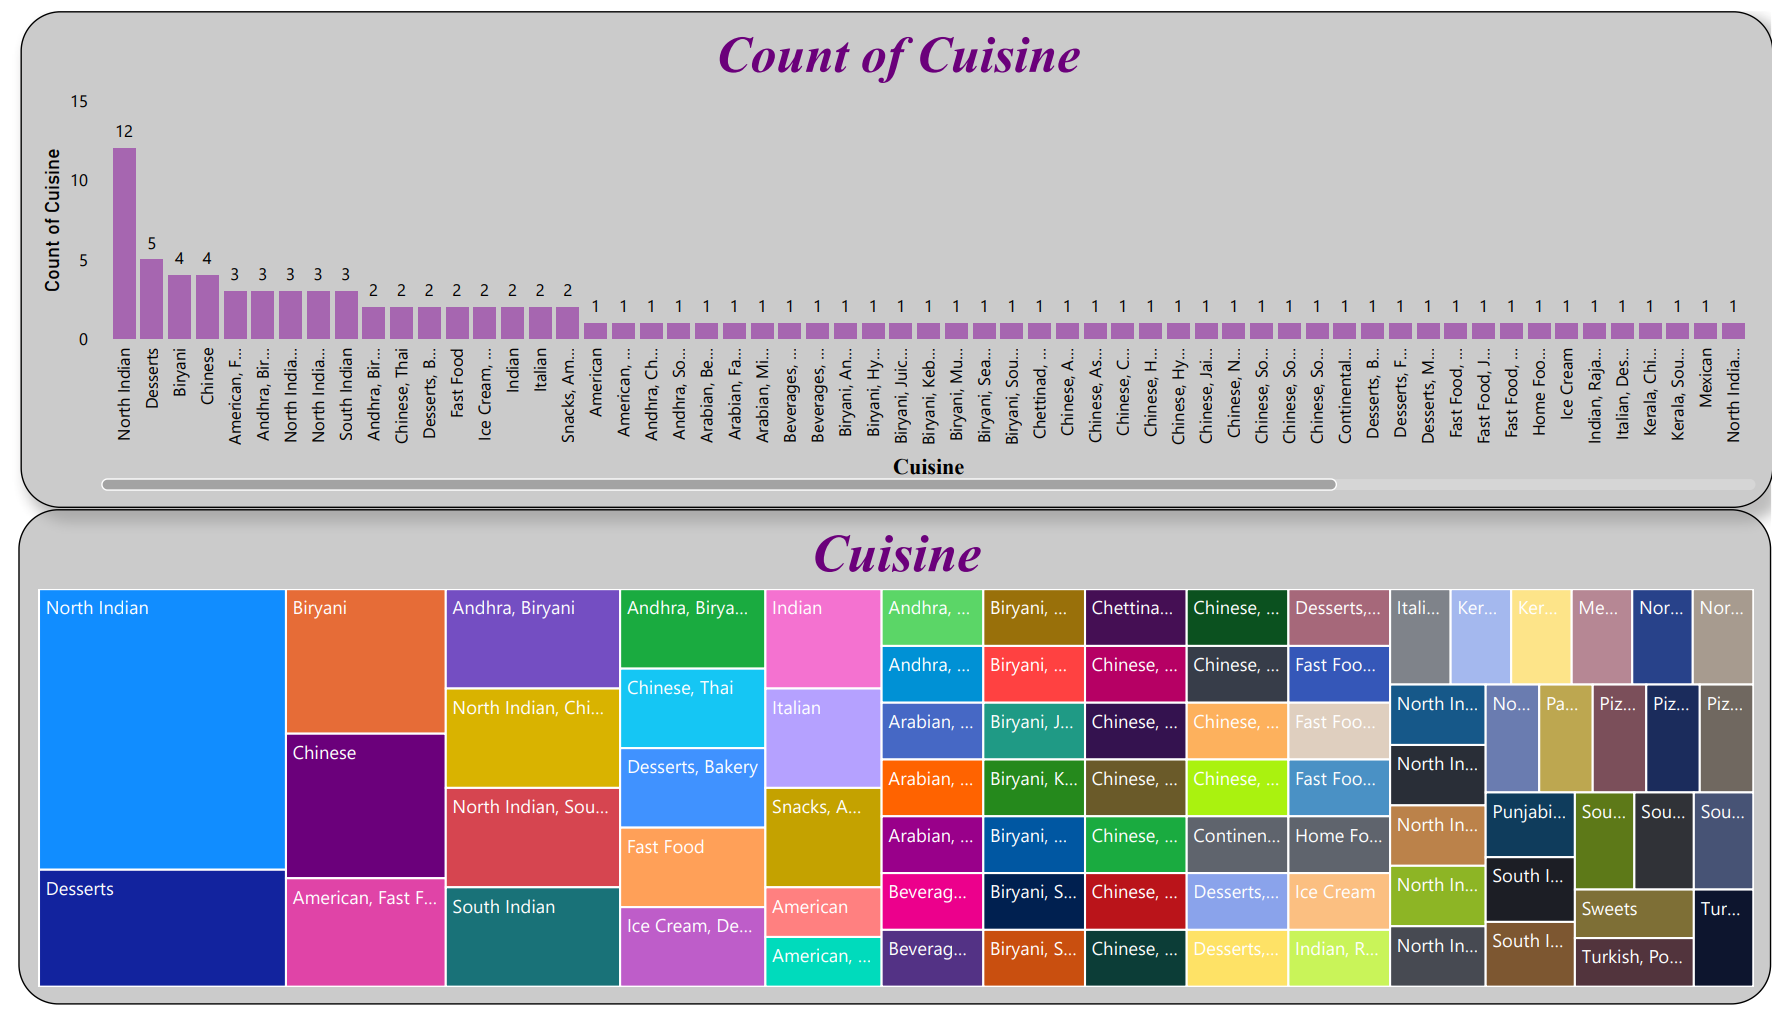

The page's visual inventory and layout, read from the dashboard file:
{"tool":"powerbi","page":{"name":"Page 3","canvas":[1280,720],"ordinal":2},"visuals":[{"type":"clusteredColumnChart","title":"Count of Cuisine","fields":{"Category":["Swiggy Bangalore Outlet Details.Cuisine"],"Y":["CountNonNull(Swiggy Bangalore Outlet Details.Cuisine)"]},"box":[10.5,0,1269.8,360],"z":0},{"type":"treemap","title":"Cuisine","fields":{"Group":["Swiggy Bangalore Outlet Details.Cuisine"],"Values":["CountNonNull(Swiggy Bangalore Outlet Details.Cuisine)"]},"box":[9.6,360.6,1270.4,359.2],"z":1000}]}

Visuals, with their boxes in screenshot pixels (x1, y1, x2, y2), scaled from the page's 1280x720 canvas onto the 1785x1015 screenshot:
"Count of Cuisine" clusteredColumnChart: l=15, t=0, r=1784, b=508
"Cuisine" treemap: l=13, t=508, r=1784, b=1014
